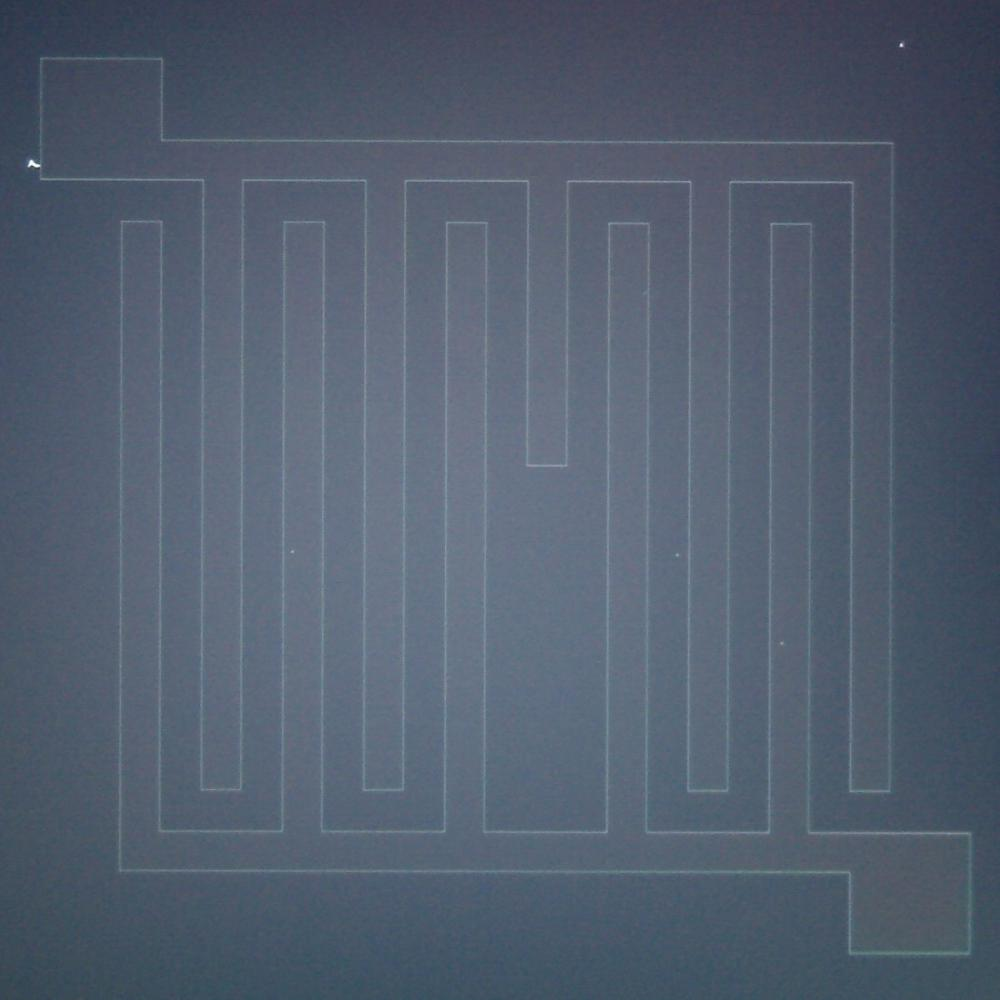dot: (28, 159, 39, 170), (675, 553, 680, 558), (899, 44, 903, 48), (290, 550, 294, 554), (780, 642, 784, 646)
